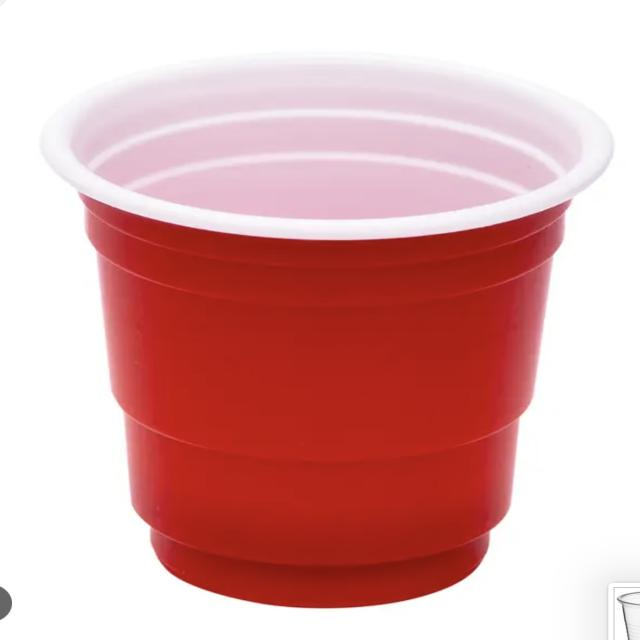recyclable: (27, 28, 610, 626)
